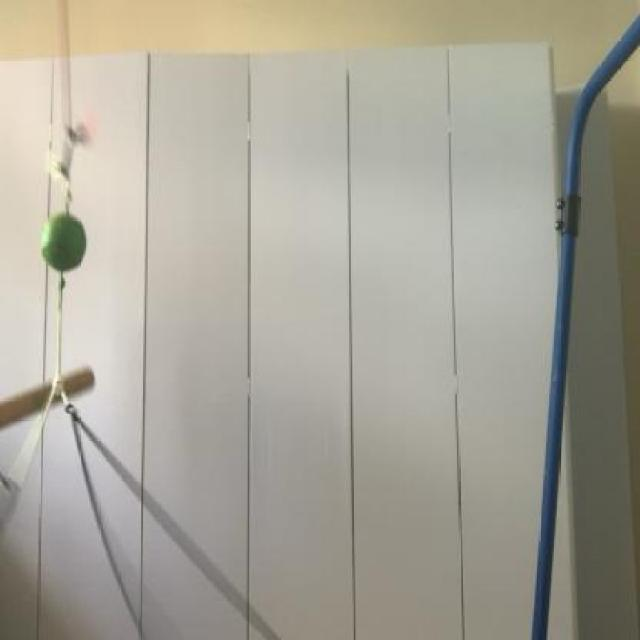baseball: (42, 201, 86, 274)
